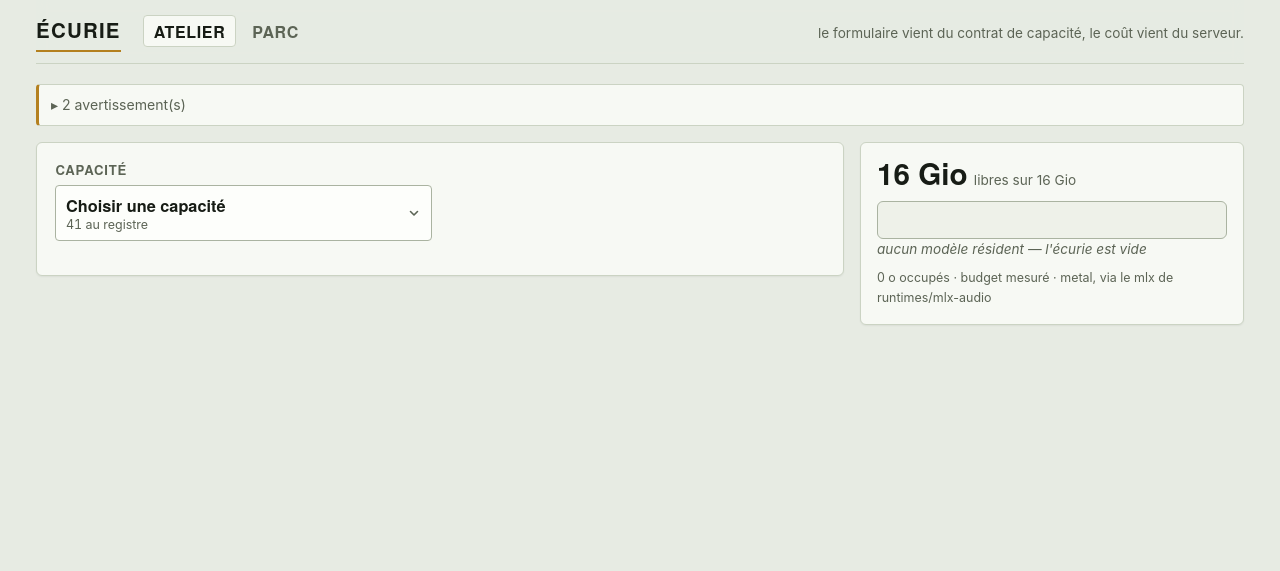
Test case: le chiffrage du job › le cout vient du serveur et se lit
Click the button "Choisir une capacité 41 au registre": point(146, 205) [55,185,432,241]
(page scrolled)
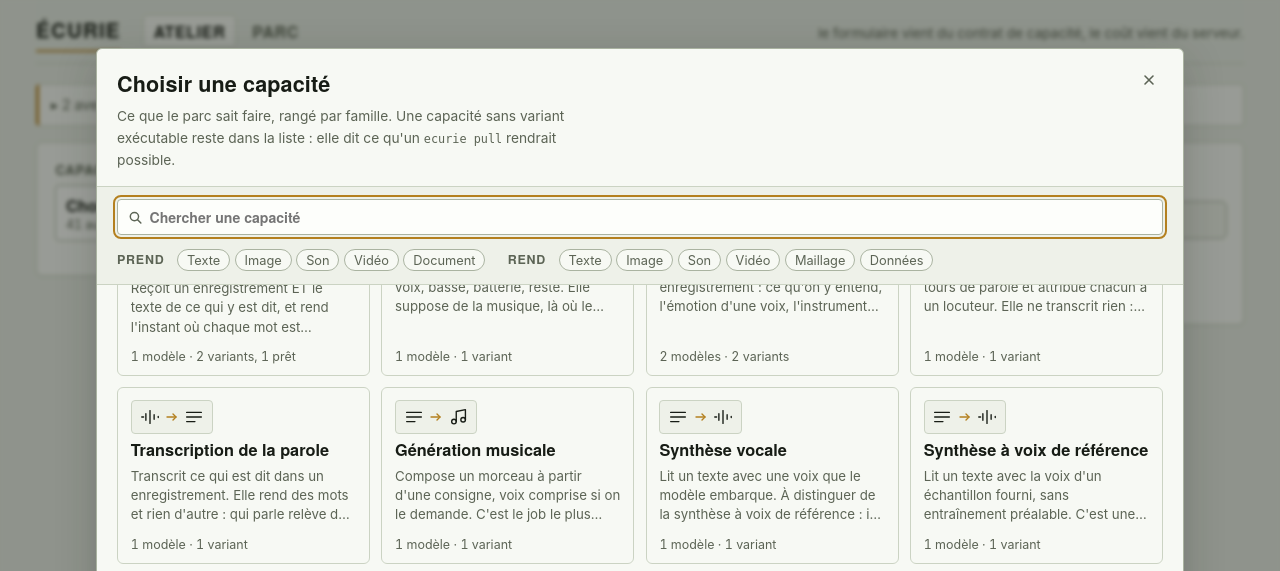
Click the button "Synthèse vocale": point(772, 475) [646,387,899,564]
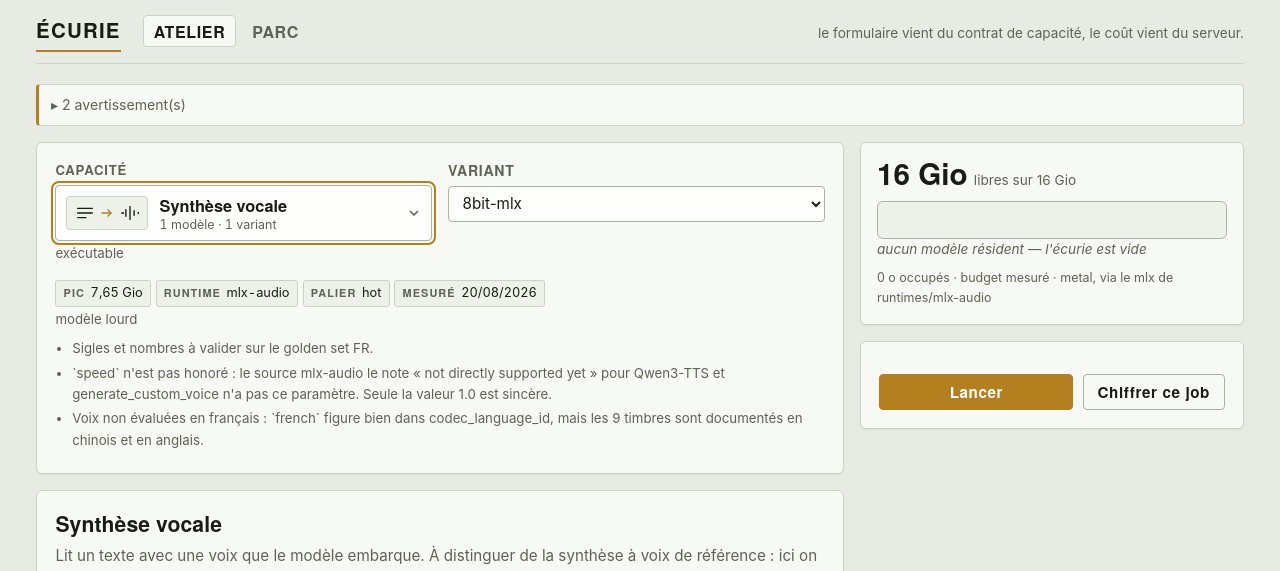
Click the button "Chiffrer ce job": point(1154, 392) [1083,374,1225,410]
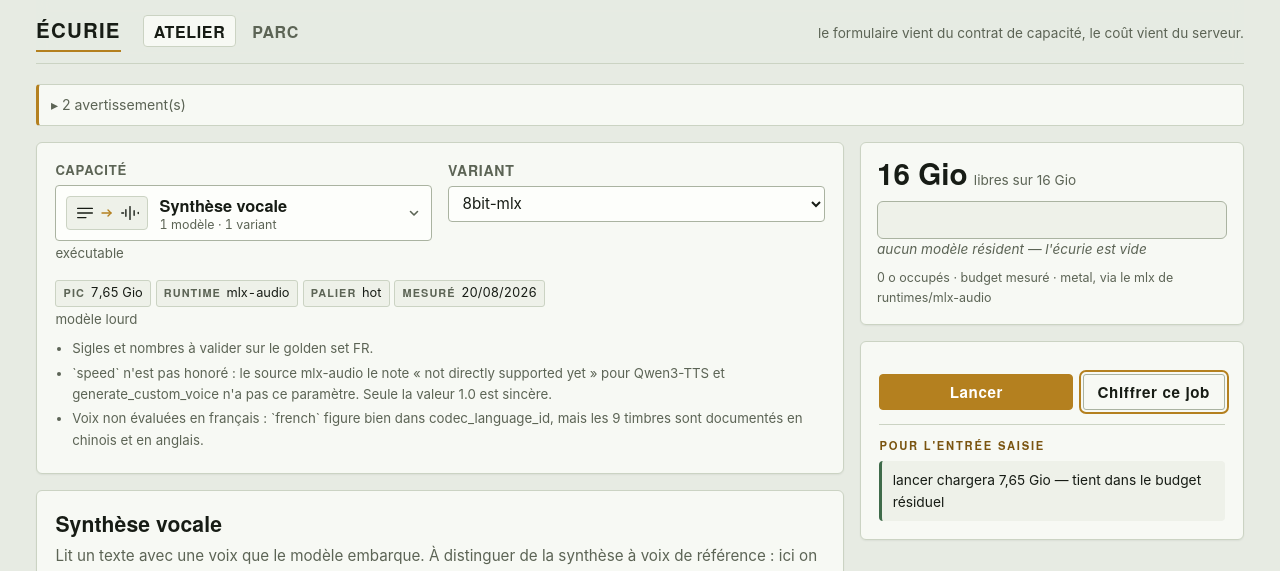
Expected: the list item "lancer chargera 7,65 Gio — tient dans le budget résiduel" is shown, [893,469,1214,513]
